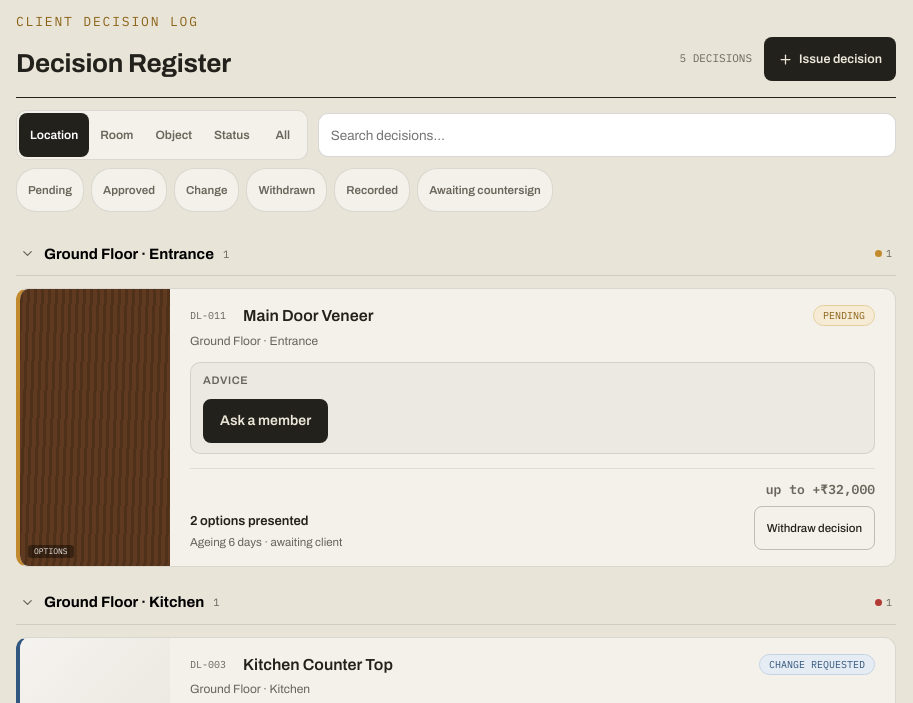
the Decision Log with no decisions › a register that has decisions but a search hiding them all is not empty: no line
The width and height of the screenshot is (913, 703).
Type "nothing matches this zzz" into the search field with test id "decision-search" at (607, 135), box [318,113,896,157]
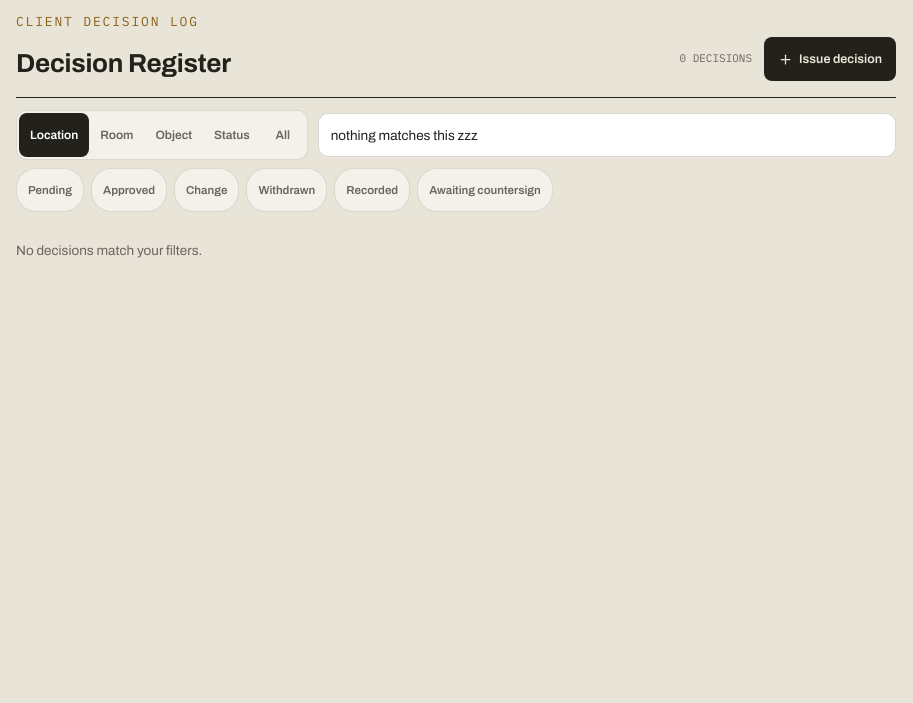
Now the text "No decisions match your filters." is shown, box [16,243,202,258]
